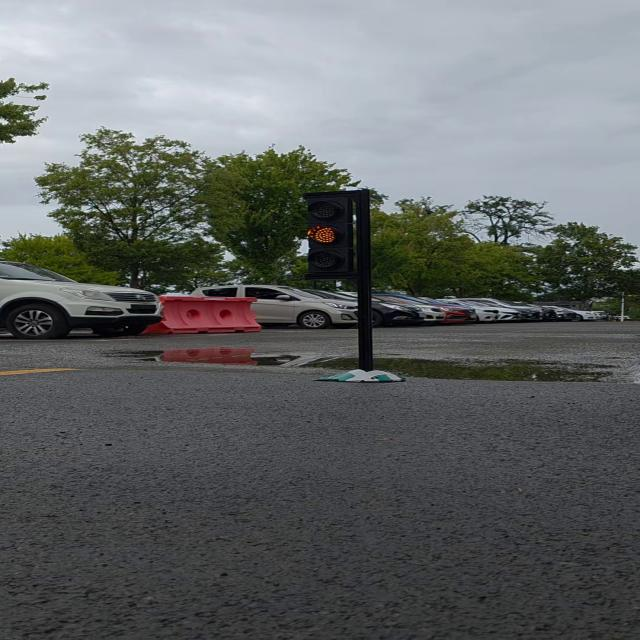yellow: (295, 188, 375, 284)
